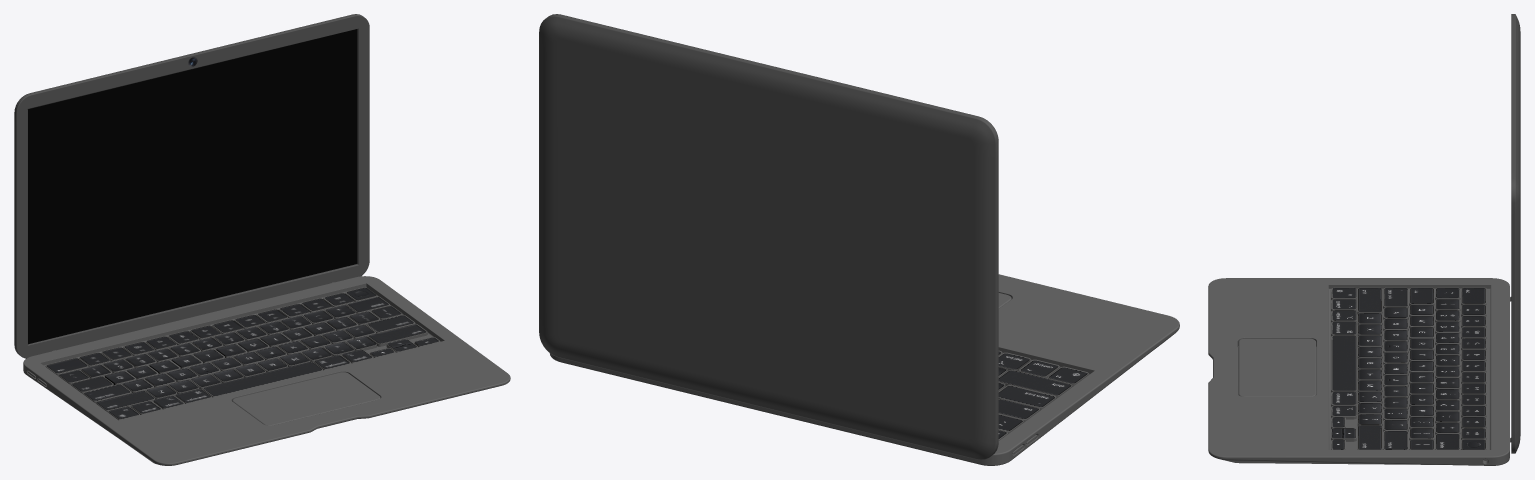
Rendered from laptop.glb.
3 renders of one model, left to right at view 1: azimuth 30°, elevation 25°; view 2: azimuth 150°, elevation 25°; view 3: azimuth 270°, elevation 25°, orthographic. The views are drawn at different scales.
Visible parts, largest first — view 1: Cube.003; view 2: Cube.003; view 3: Cube.003.
Boxes of the visible parts, x1,y1,x2,y2 form: Cube.003: (14, 14, 510, 465); Cube.003: (539, 14, 1179, 465); Cube.003: (1208, 14, 1520, 465).
Size of the model in its own units: 1.07 by 0.7808 by 0.7855.
Materials: 3 (2 with a texture image).
